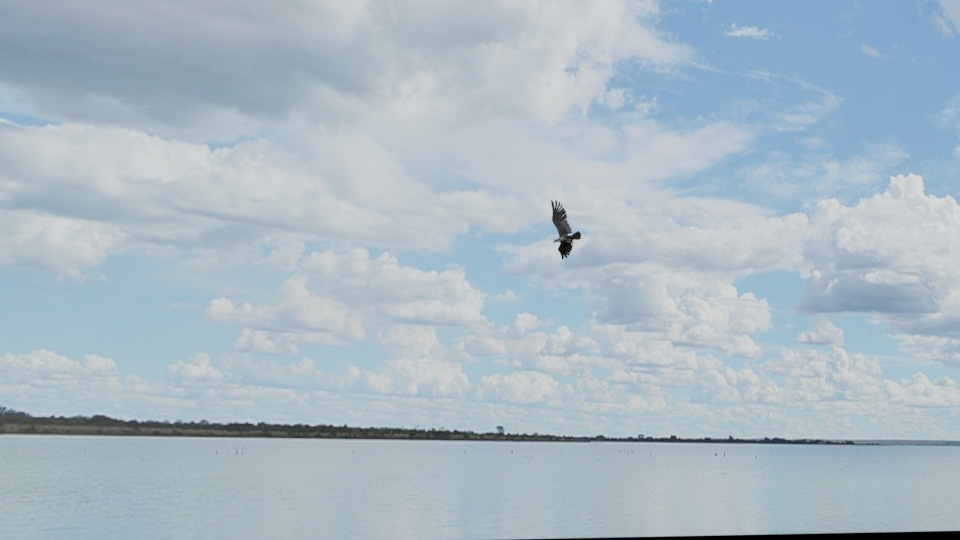bird: (549, 196, 582, 260)
